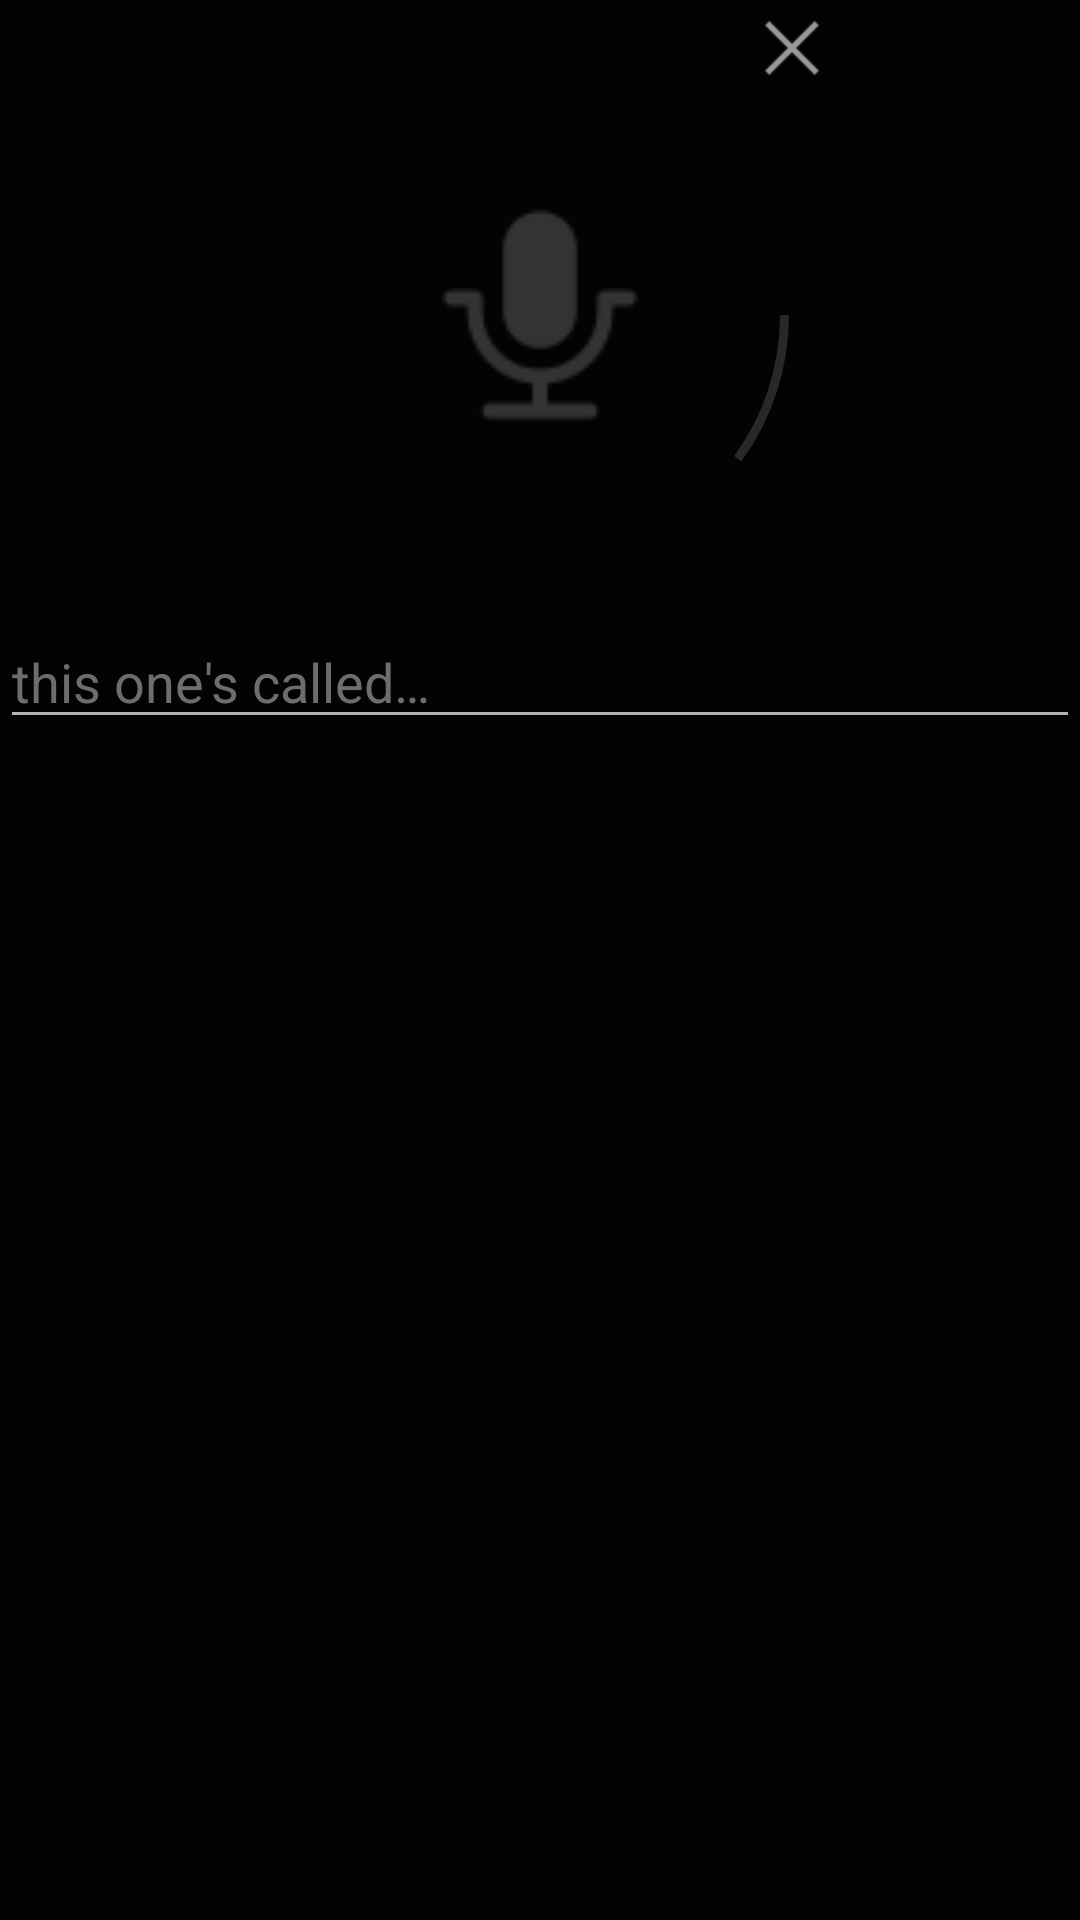

Locate icon controls on the screen. Image size 1080x1920, boxes as (x1, y1, x2, y2).
close clear cancel: (765, 21, 819, 75)
record: (444, 212, 636, 419)
